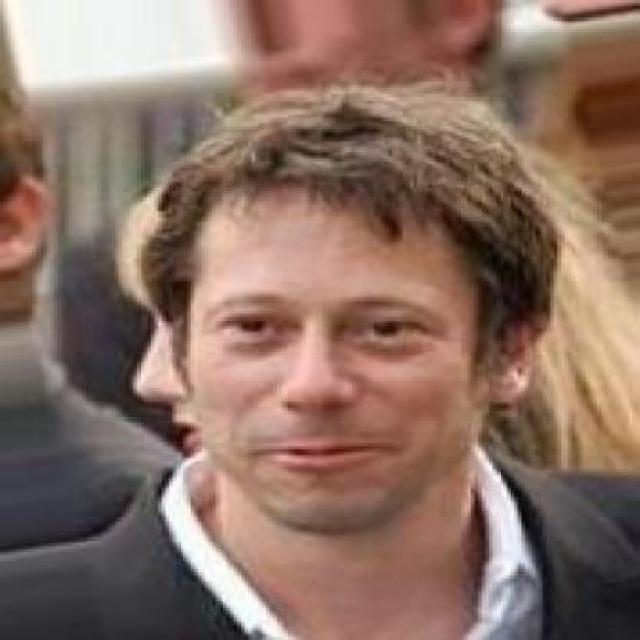closed-mouth: (248, 435, 402, 473)
